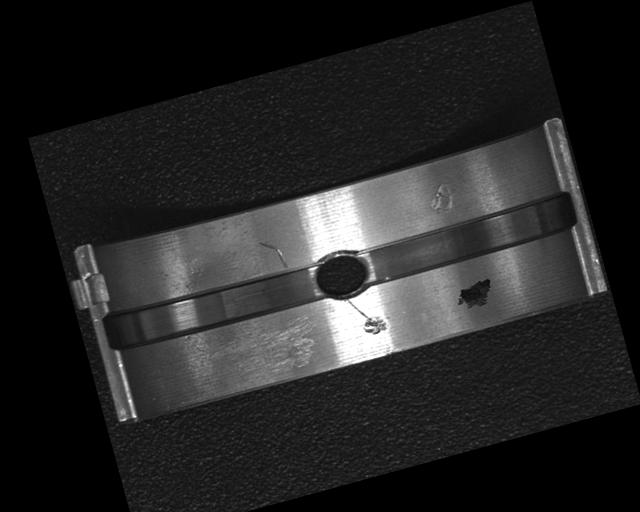blot: (452, 276, 497, 311)
bruise: (423, 177, 458, 217), (358, 312, 390, 337)
gap: (102, 257, 322, 357), (358, 188, 578, 288)
hole: (307, 242, 376, 309)
nick: (257, 236, 289, 273), (344, 293, 373, 326)
scratch: (204, 311, 319, 389)
